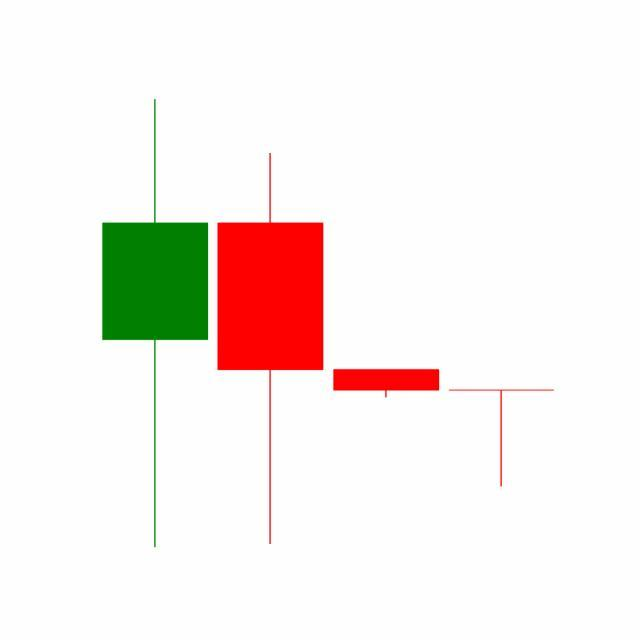Hammer: (444, 390, 560, 490)
